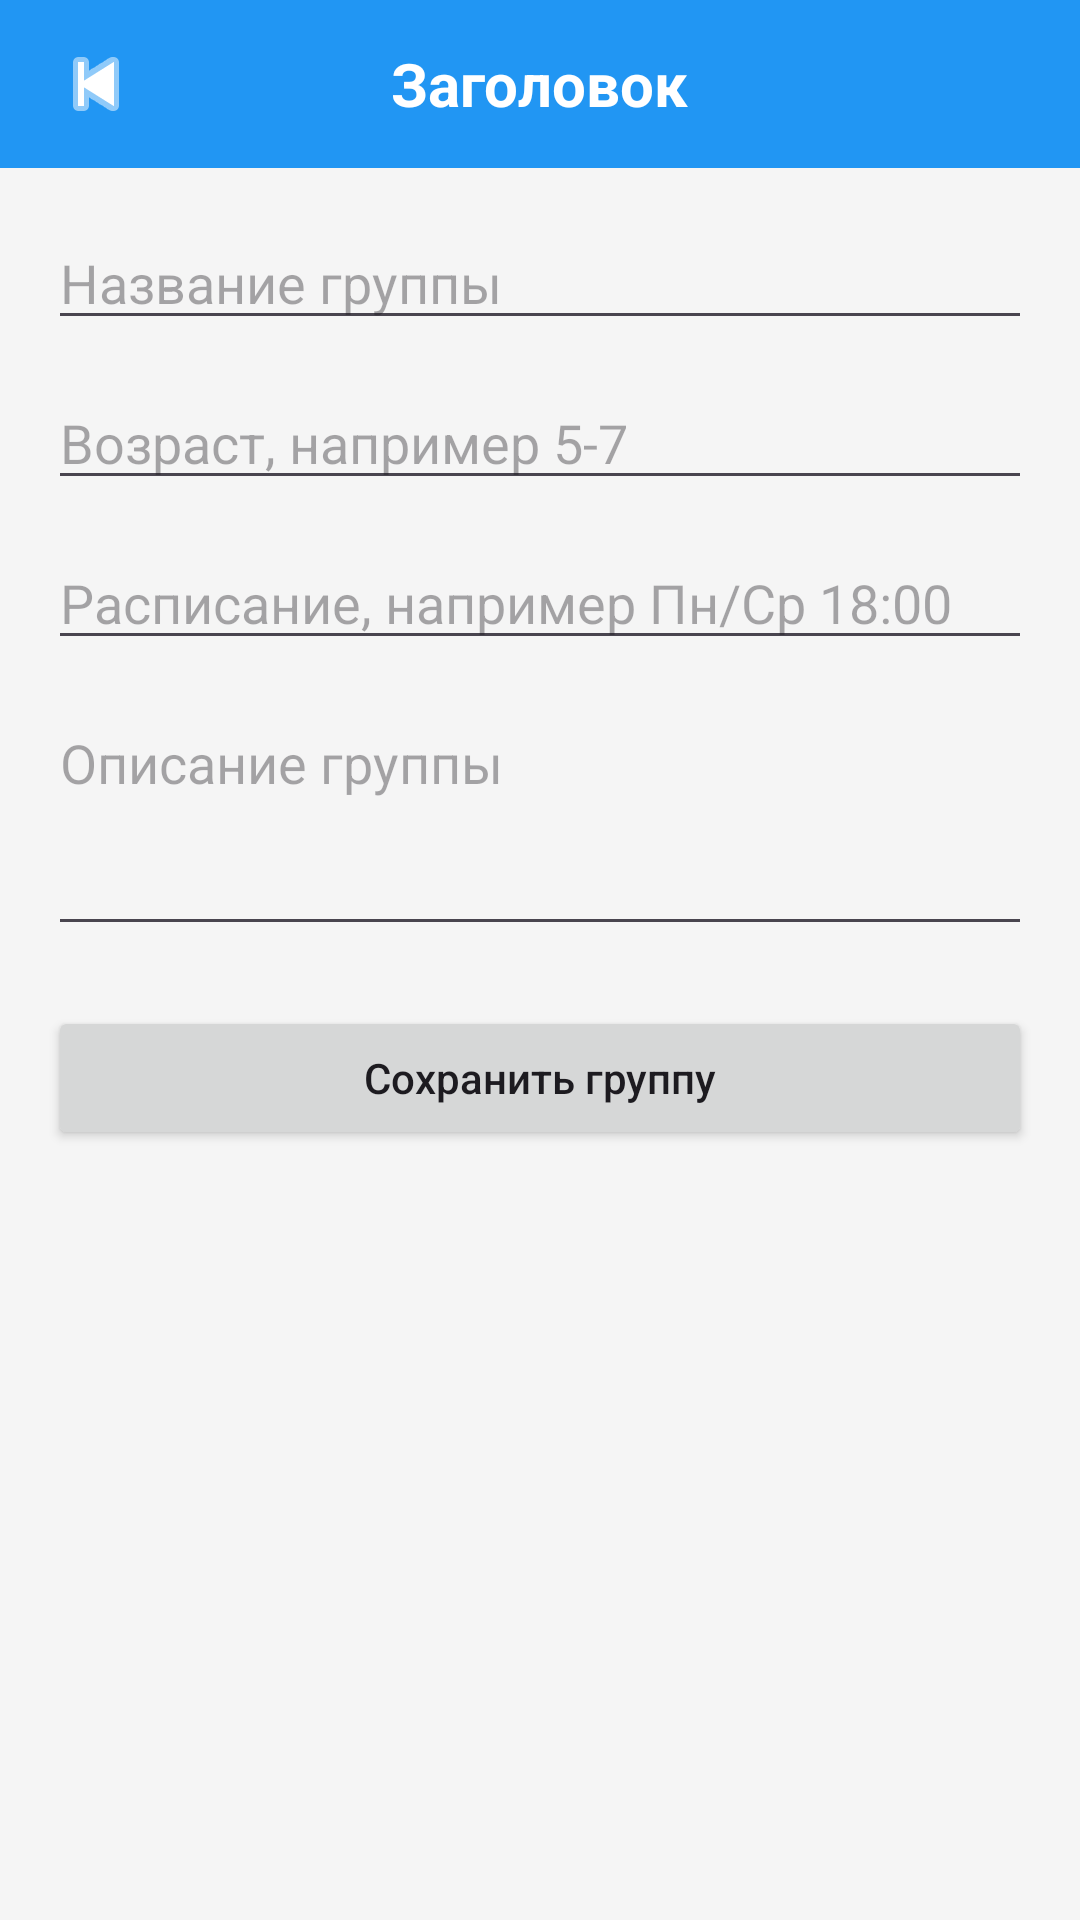

Where icons sit on this 1080px×1920px app screen, as {"left": x1, "top": y1, "right": x2, "bottom": y2}:
Назад: {"left": 73, "top": 57, "right": 119, "bottom": 111}
